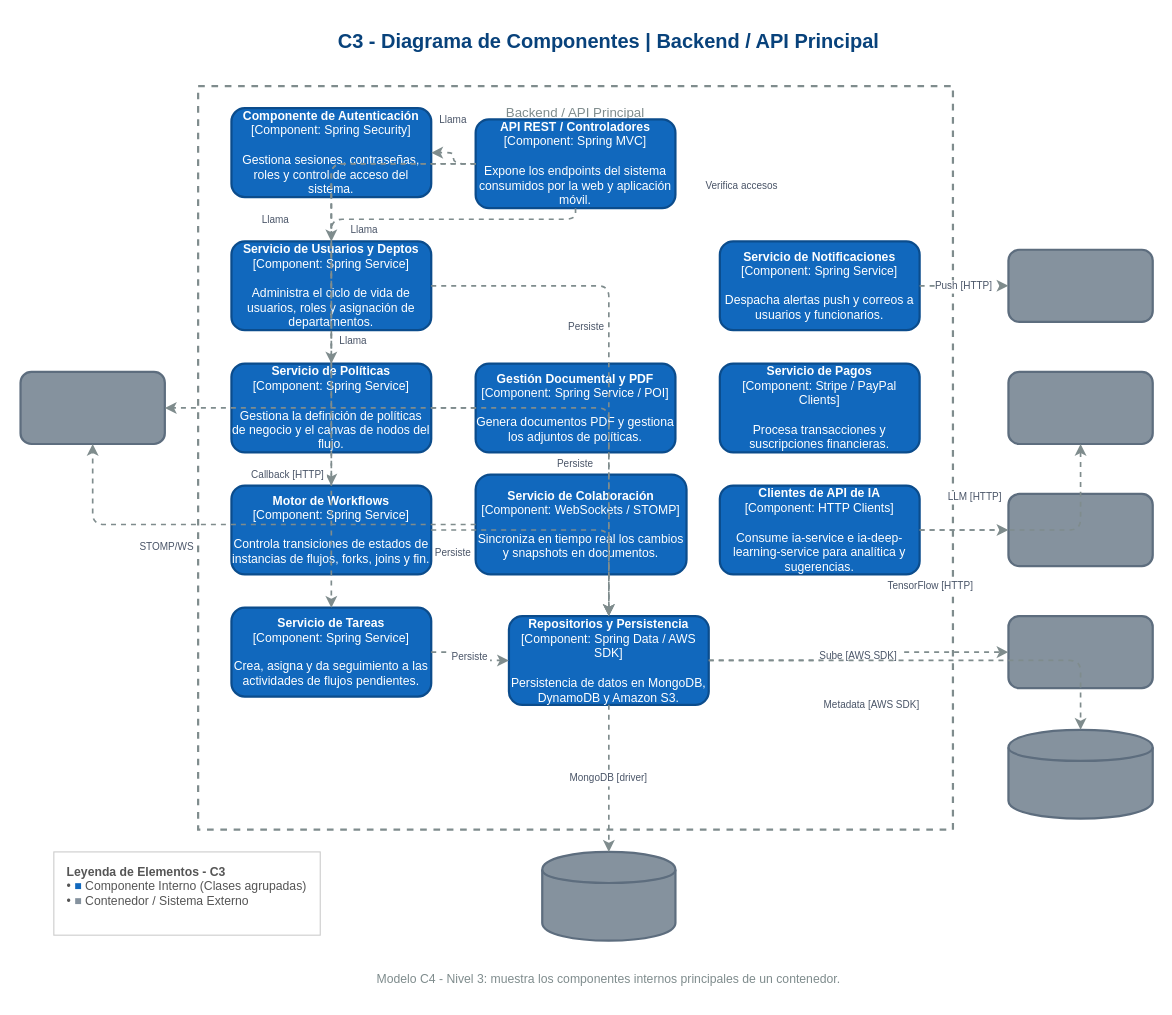
Image size: 1172x1015. Some labels were removed from this diagram. Each missing label, with the centre of its shape:
Amazon DynamoDB [Database]: the point at 1080,773
Amazon S3 [Storage]: the point at 1080,651
Firebase / FCM [Software System]: the point at 1080,285
Microservicio IA [Container]: the point at 1080,407
Microservicio IA DL [Container]: the point at 1080,529
MongoDB [Database]: the point at 608,895
OnlyOffice [Software System]: the point at 92,407
